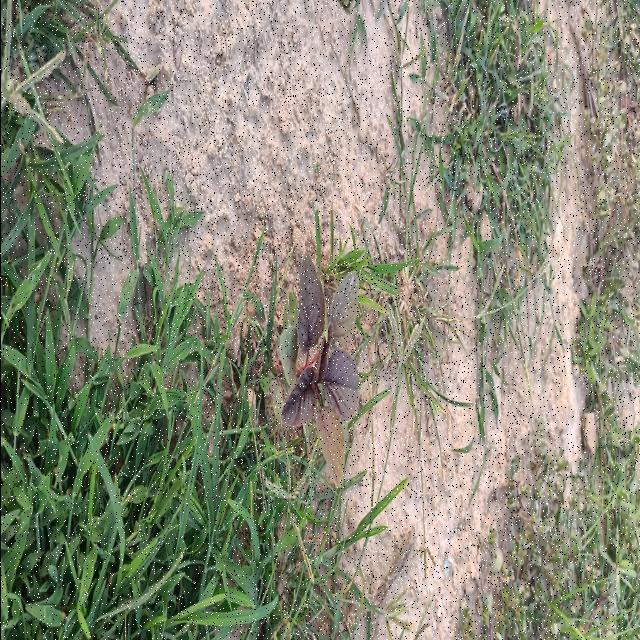plant: (280, 251, 358, 486)
